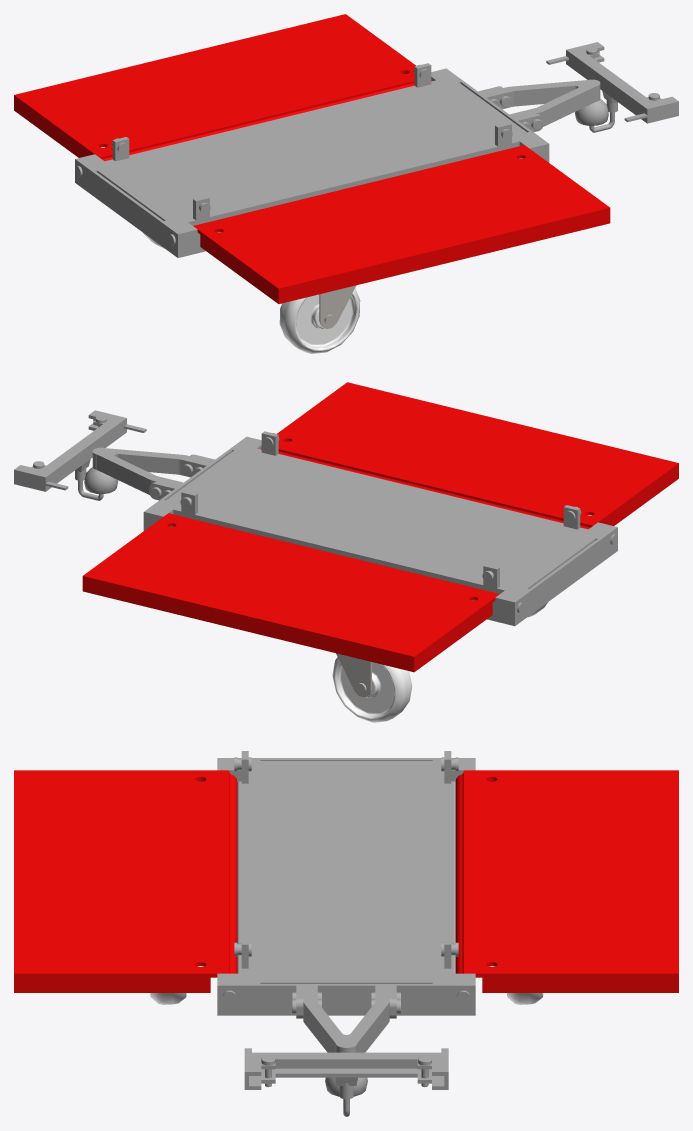
Rendered from trailerNEROcolored.obj.
3 views of the same model, one above another, from view 1: azimuth 30°, elevation 25°; view 2: azimuth 150°, elevation 25°; view 3: azimuth 270°, elevation 25° (orthographic). The views are drawn at different scales.
Visible parts, largest first — view 1: Solid1:12, Solid1:18, Solid1:17, Solid1:25, Solid1:4, Solid1:1, Solid1:3, Solid1; view 2: Solid1:12, Solid1:17, Solid1:18, Solid1:25, Solid1:9, Solid1:1, Solid1:8, Solid1; view 3: Solid1:12, Solid1:17, Solid1:18, Solid1:25, Solid1:1.
Boxes of the visible parts, <box> form: Solid1:12: <box>75,68,549,257</box>; Solid1:18: <box>193,145,610,303</box>; Solid1:17: <box>14,14,432,161</box>; Solid1:25: <box>546,42,678,123</box>; Solid1:4: <box>279,288,360,353</box>; Solid1:1: <box>481,79,600,126</box>; Solid1:3: <box>319,285,356,328</box>; Solid1: <box>575,99,608,125</box>; Solid1:12: <box>143,436,617,626</box>; Solid1:17: <box>82,513,499,672</box>; Solid1:18: <box>260,382,678,529</box>; Solid1:25: <box>14,410,146,491</box>; Solid1:9: <box>332,657,412,722</box>; Solid1:1: <box>92,447,211,494</box>; Solid1:8: <box>336,653,371,697</box>; Solid1: <box>84,467,118,493</box>; Solid1:12: <box>217,758,475,1018</box>; Solid1:17: <box>455,770,678,992</box>; Solid1:18: <box>14,770,237,992</box>; Solid1:25: <box>244,1048,448,1099</box>; Solid1:1: <box>303,985,389,1052</box>.
Size of the model in its own units: 519 by 146 by 463.
